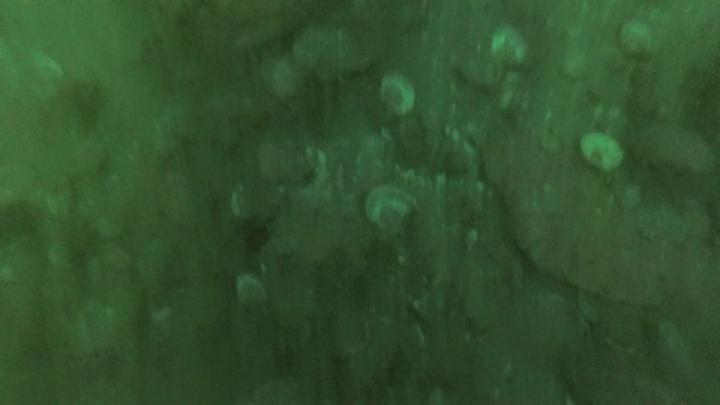scallop: (576, 130, 632, 176), (363, 183, 417, 229), (377, 74, 421, 119), (494, 27, 532, 68), (620, 23, 659, 61), (234, 274, 268, 308)
